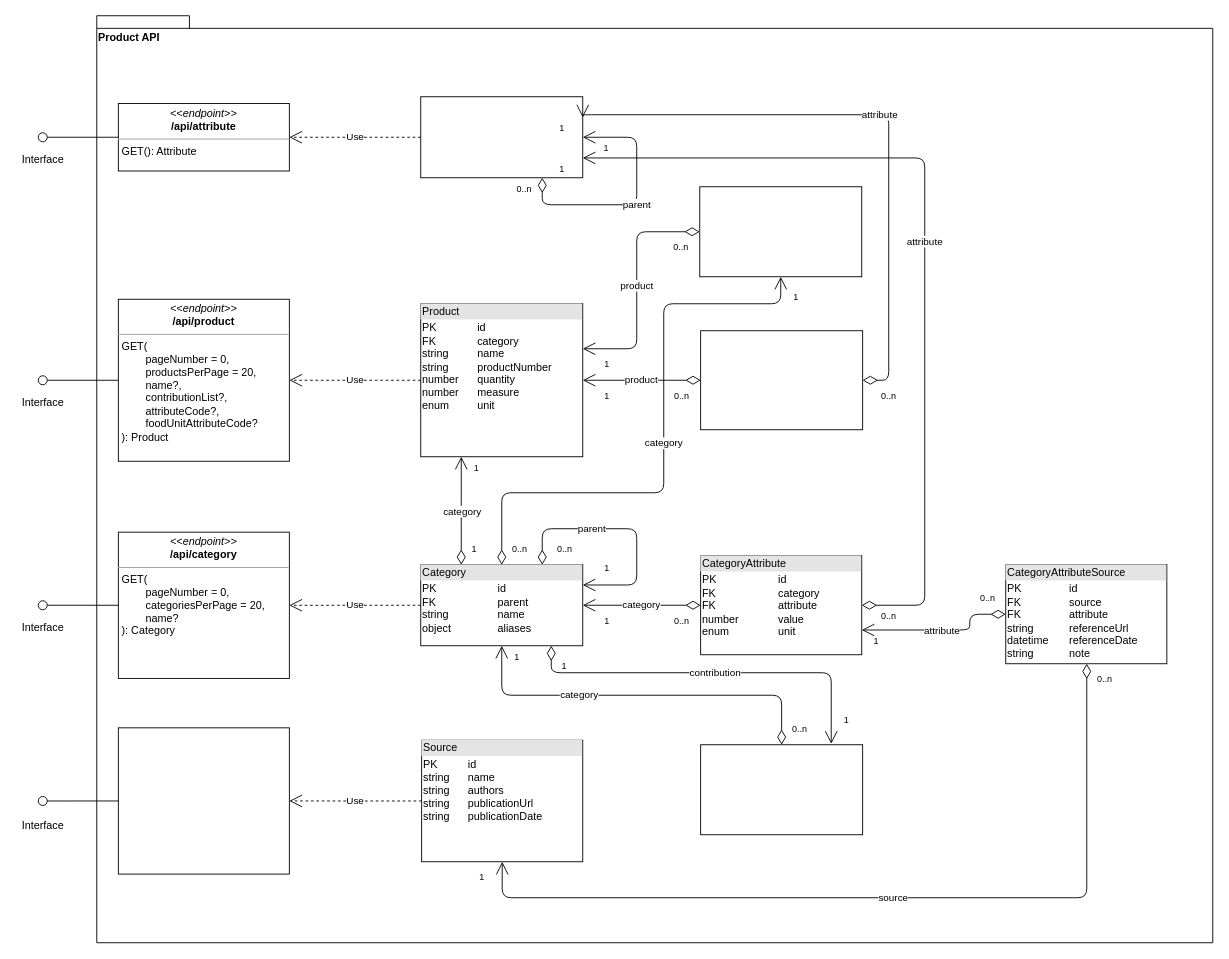
Some shapes in this 1229 by 959 pixel diagram are drawn without their labels. The box of each missing label's shape, as (x1, y1, x2, y2) in pixels:
<<endpoint>> /api/source G ET( ): Source: (117, 727, 289, 874)
Attribute PK FK string id parent name: (420, 96, 583, 178)
CategoryContribution PK FK FK number string id category contribution amount unit: (700, 744, 863, 835)
ProductAttribute PK FK FK number enum id product attribute value unit: (700, 330, 863, 430)
ProductContribution PK FK FK number string id product contribution amount unit: (699, 186, 862, 277)
